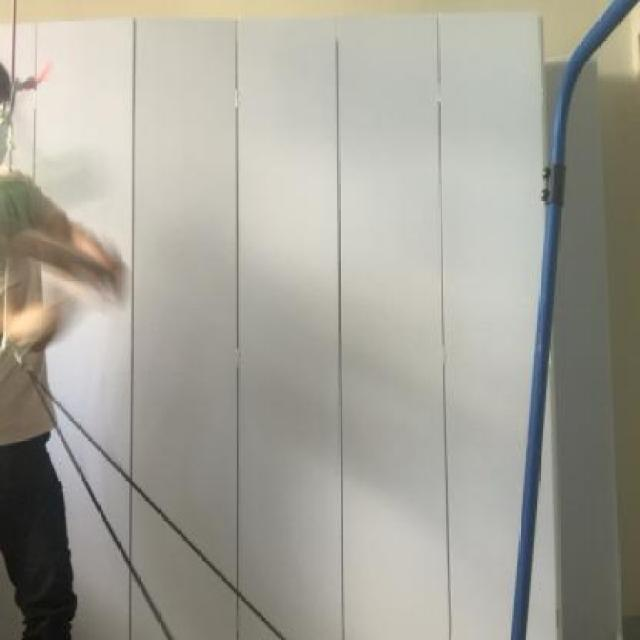baseball: (0, 137, 108, 238)
